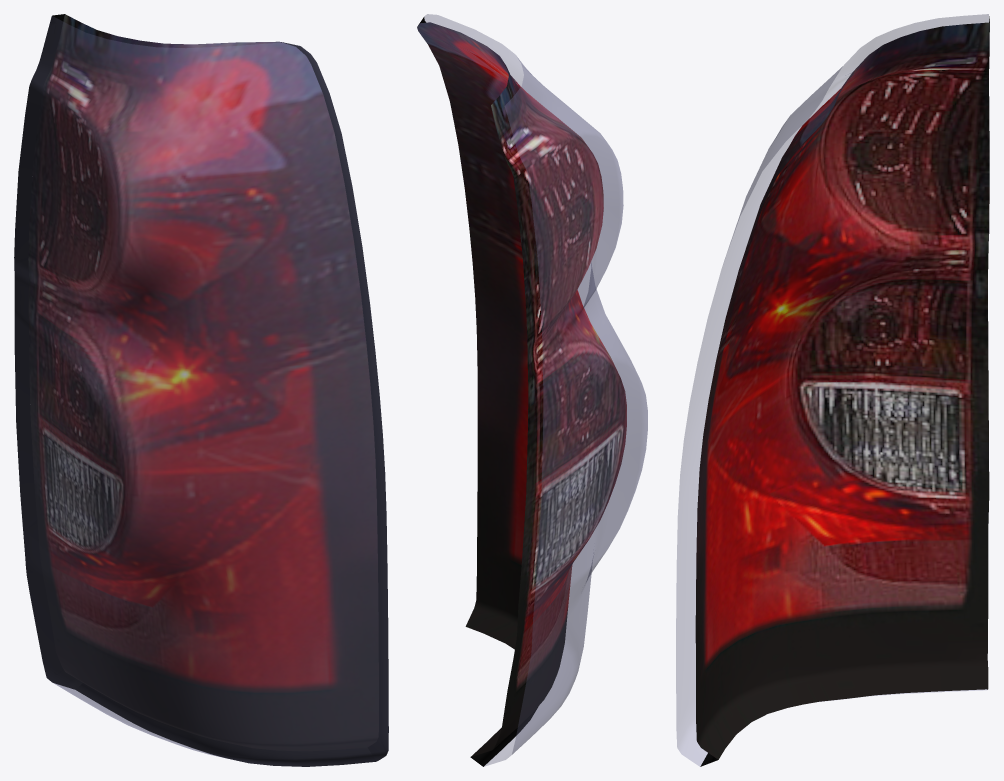
3 views of the same model, side by side, from view 1: azimuth 30°, elevation 25°; view 2: azimuth 150°, elevation 25°; view 3: azimuth 270°, elevation 25° (orthographic). The views are drawn at different scales.
Visible parts, largest first — view 1: U805_4A_541C_R_1_DTaSI_U805_4A_541C_R, U805_4A_541C_R_U805_4A_541C_R_2_N, U805_4A_541C_R_U805_4A_541C_R_3_D; view 2: U805_4A_541C_R_U805_4A_541C_R_2_N, U805_4A_541C_R_1_DTaSI_U805_4A_541C_R, U805_4A_541C_R_U805_4A_541C_R_3_D; view 3: U805_4A_541C_R_U805_4A_541C_R_2_N, U805_4A_541C_R_1_DTaSI_U805_4A_541C_R.
Boxes of the visible parts, x1,y1,x2,y2 form: U805_4A_541C_R_1_DTaSI_U805_4A_541C_R: (14,16,388,766); U805_4A_541C_R_U805_4A_541C_R_2_N: (28,14,378,751); U805_4A_541C_R_U805_4A_541C_R_3_D: (14,14,388,766); U805_4A_541C_R_U805_4A_541C_R_2_N: (417,22,626,756); U805_4A_541C_R_1_DTaSI_U805_4A_541C_R: (424,14,647,766); U805_4A_541C_R_U805_4A_541C_R_3_D: (418,17,537,766); U805_4A_541C_R_U805_4A_541C_R_2_N: (695,22,989,759); U805_4A_541C_R_1_DTaSI_U805_4A_541C_R: (676,14,988,766).
Bounding box in the file's own units: 12.65 × 37.22 × 15.85.
